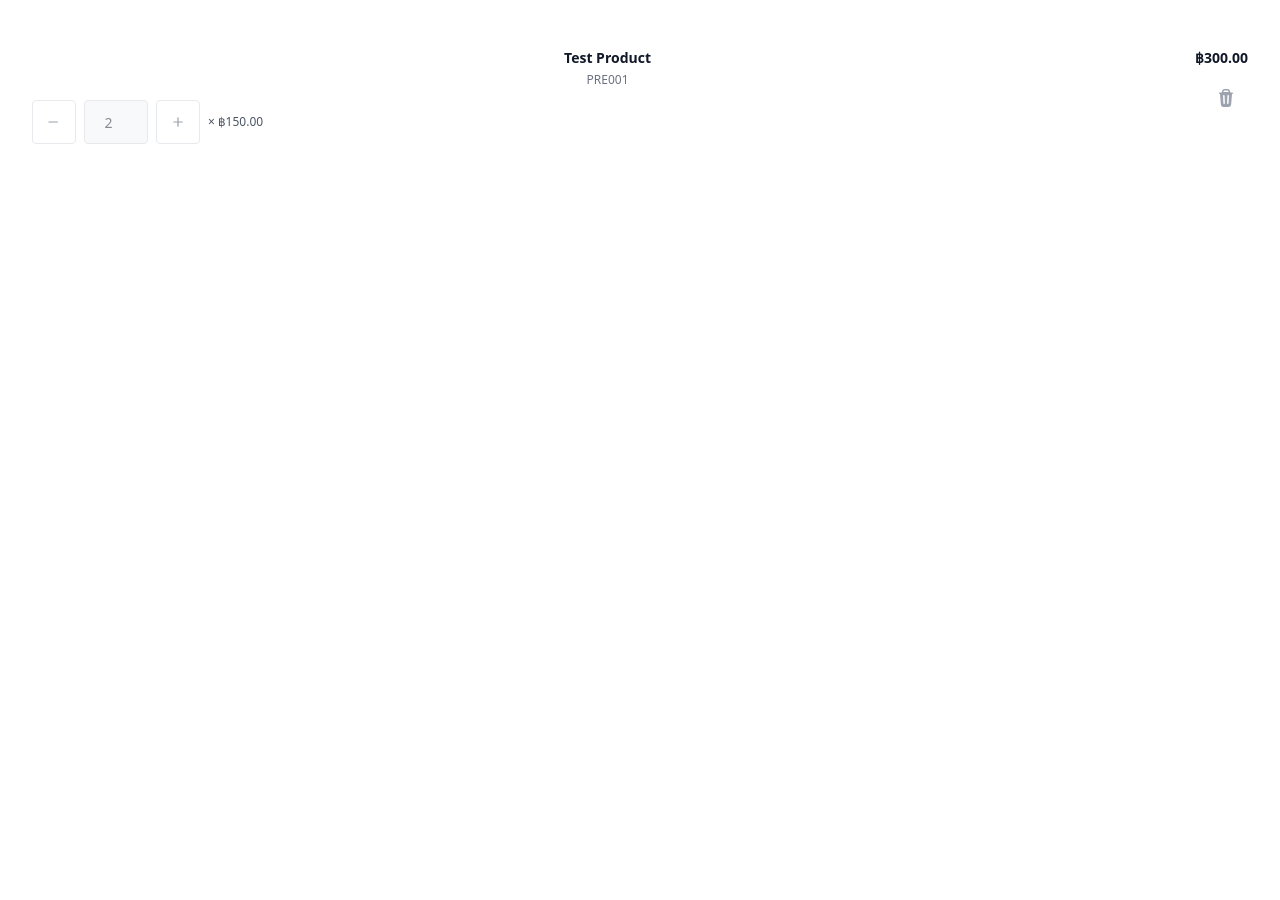
Scenario: CartItem Component - Quantity Controls › Remove button › cancels removal when cancelled
Click the button named "Remove Test Product from cart" at (1226, 98), box [1204,76,1248,120]
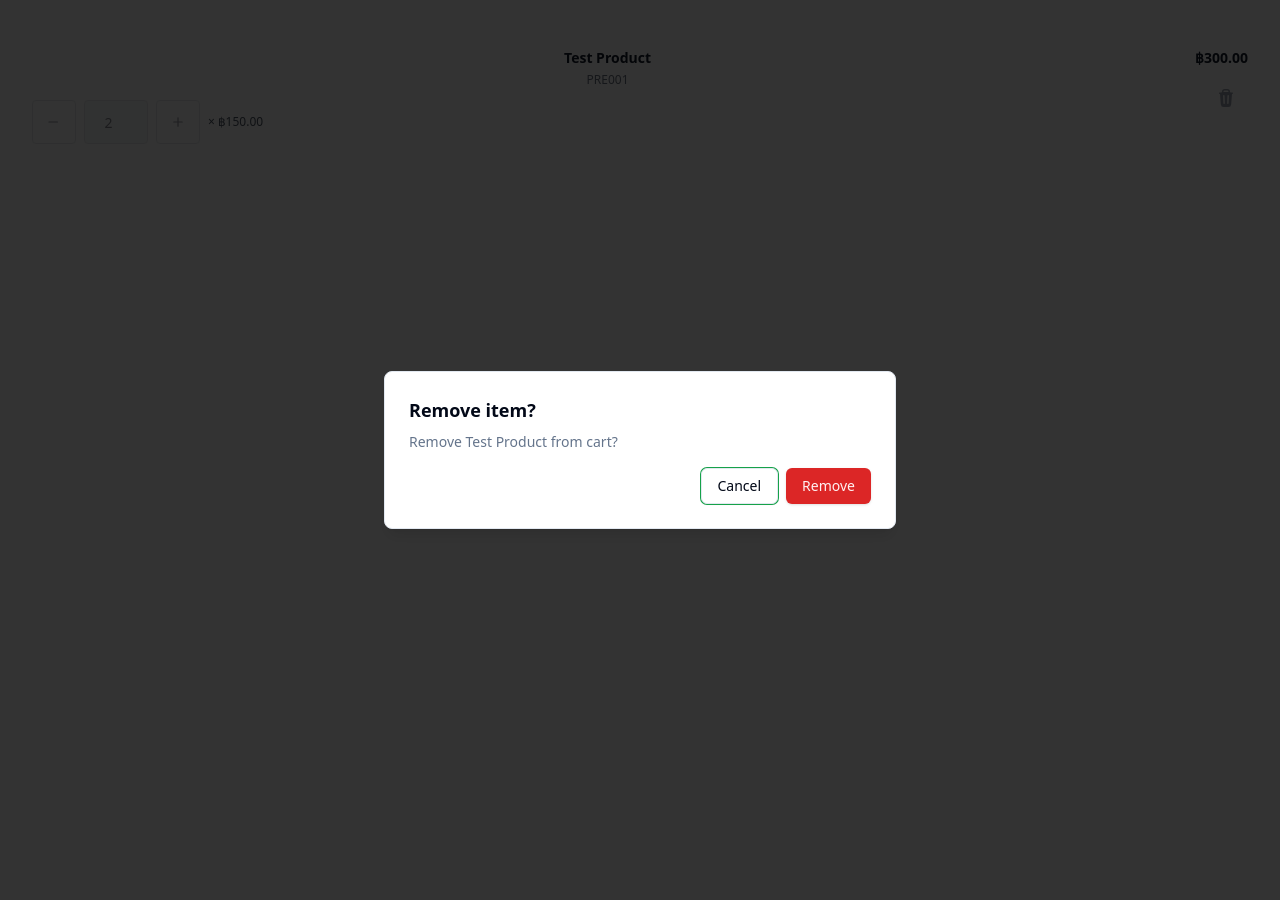
Note: Click cancel button in dialog
Click the button "Cancel" at (739, 486), box [700,468,778,504]
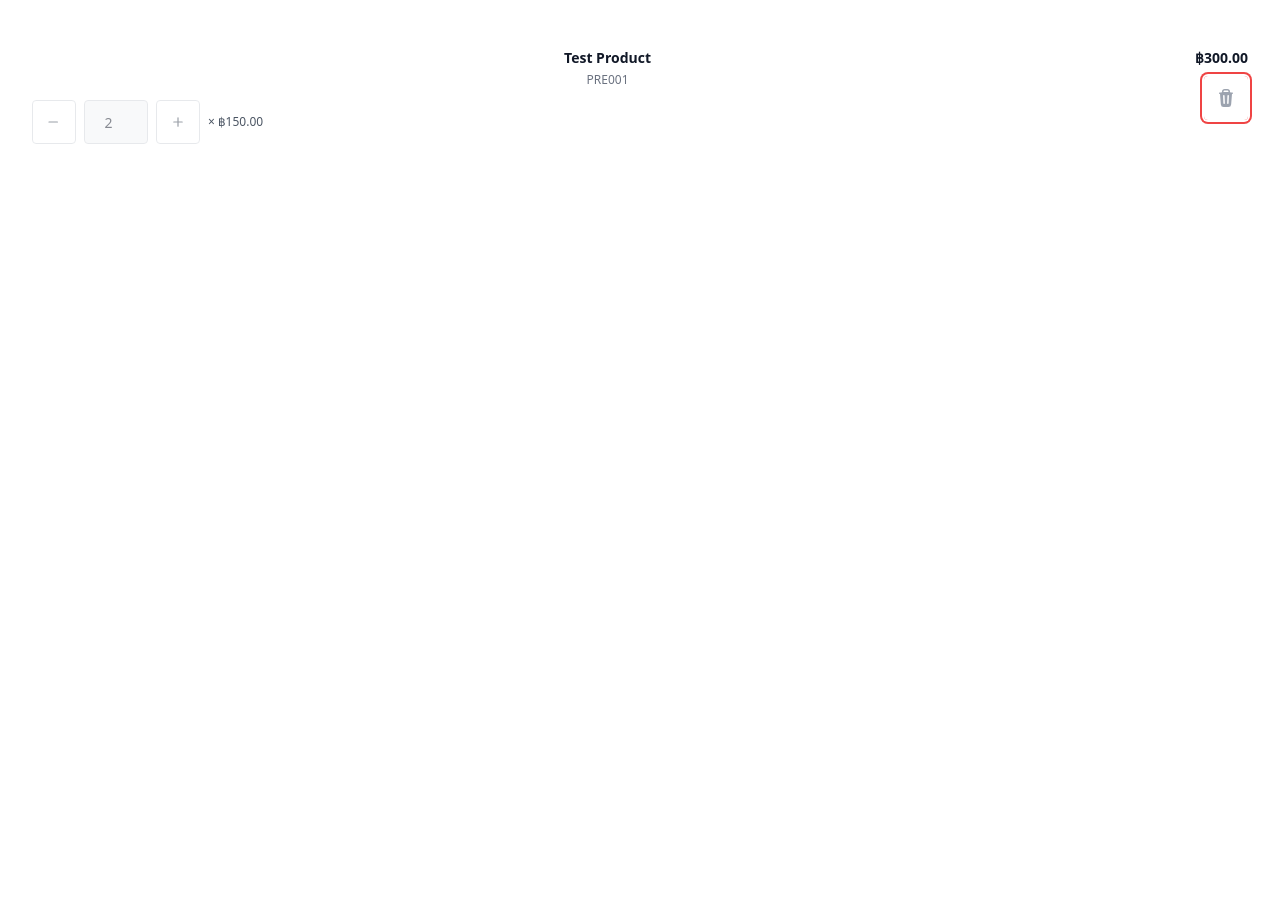
Result: the dialog is gone
